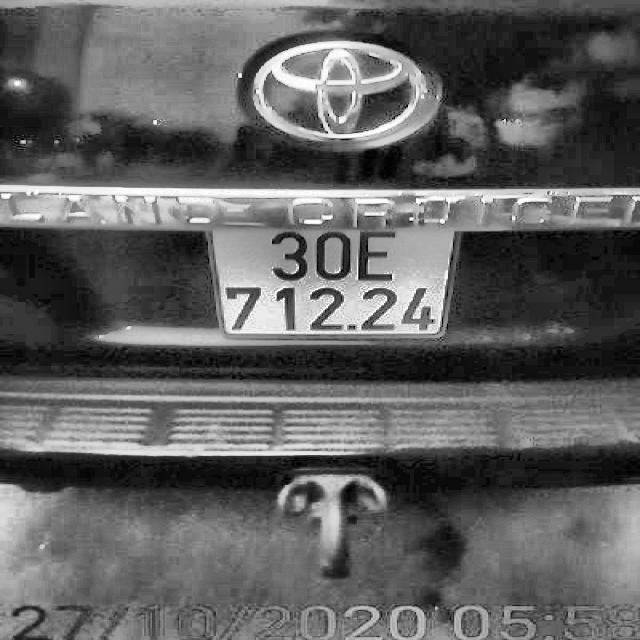plate: (196, 212, 470, 346)
